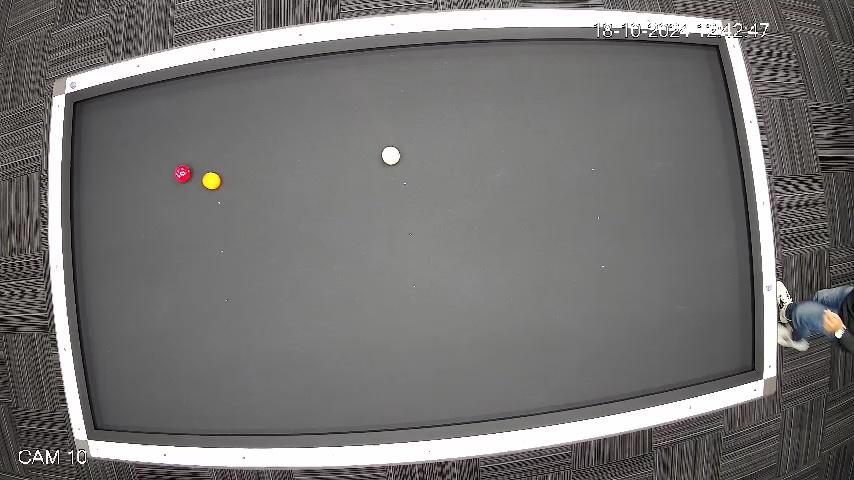Red: (173, 164, 192, 184)
White: (380, 144, 402, 166)
Yellow: (202, 172, 222, 190)
